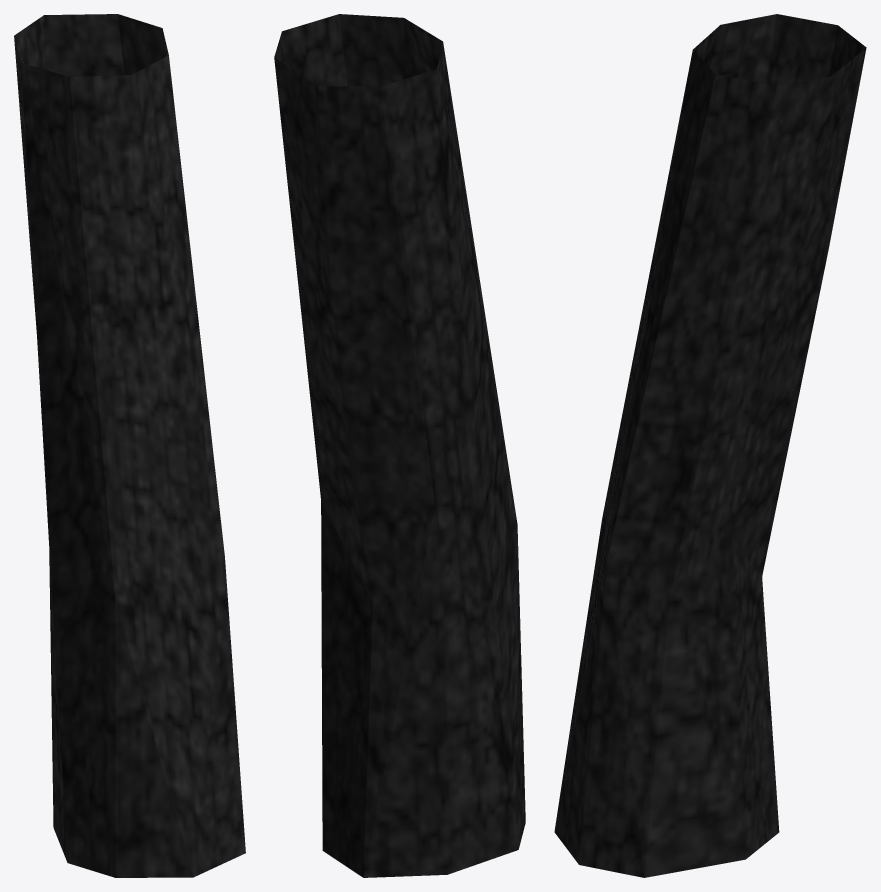
Rendered from Big_Trunk_2.fbx.
The picture shows the model from 3 angles, left to right: view 1: azimuth 30°, elevation 25°; view 2: azimuth 150°, elevation 25°; view 3: azimuth 270°, elevation 25°; orthographic projection. The views are drawn at different scales.
Visible parts, largest first — view 1: Tall trunk; view 2: Tall trunk; view 3: Tall trunk.
Boxes of the visible parts, x1,y1,x2,y2 form: Tall trunk: [14, 14, 245, 877]; Tall trunk: [274, 14, 525, 877]; Tall trunk: [554, 14, 866, 877].
Size of the model in its own units: 2730 by 11593 by 4177.
